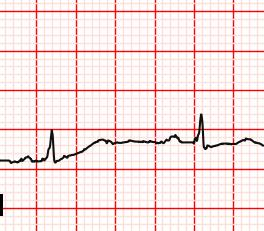Poor R Progression: (43, 126, 61, 165), (194, 107, 208, 152)
